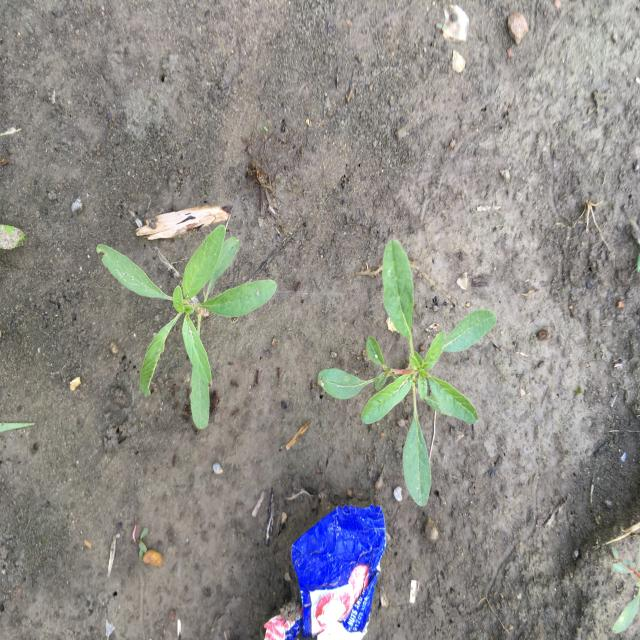Waterhemp: (316, 236, 498, 509), (95, 222, 279, 433)
